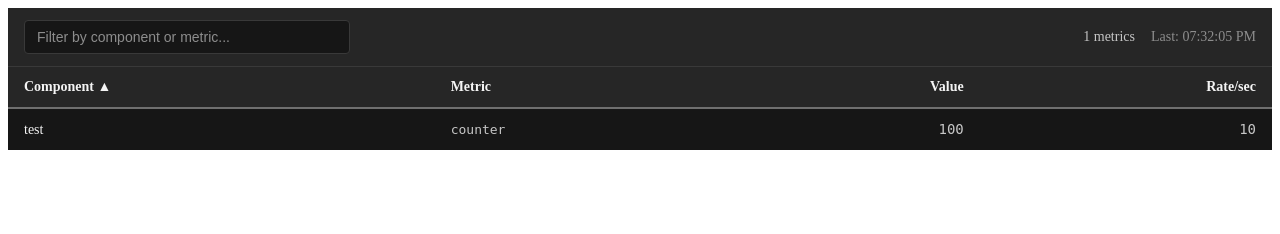
Scenario: MetricsTab › Filtering › should show empty state when filter matches nothing
This screenshot has width=1280, height=234.
Type "nonexistent" into the field with test id "metrics-filter" at (187, 37), box [24,20,350,54]
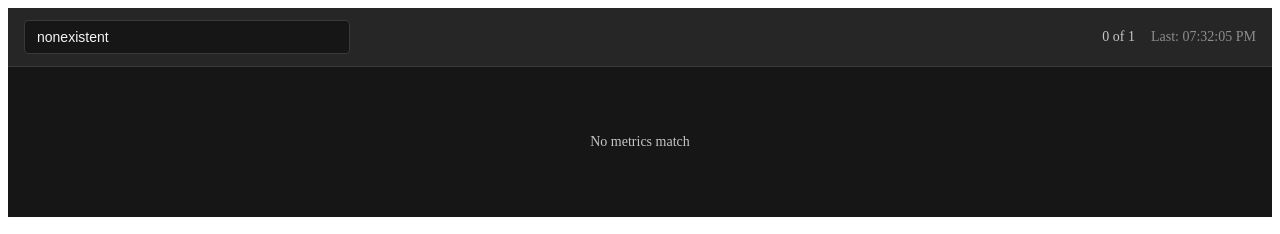
expect the text "No metrics match" is shown: met, box [590,134,690,150]
